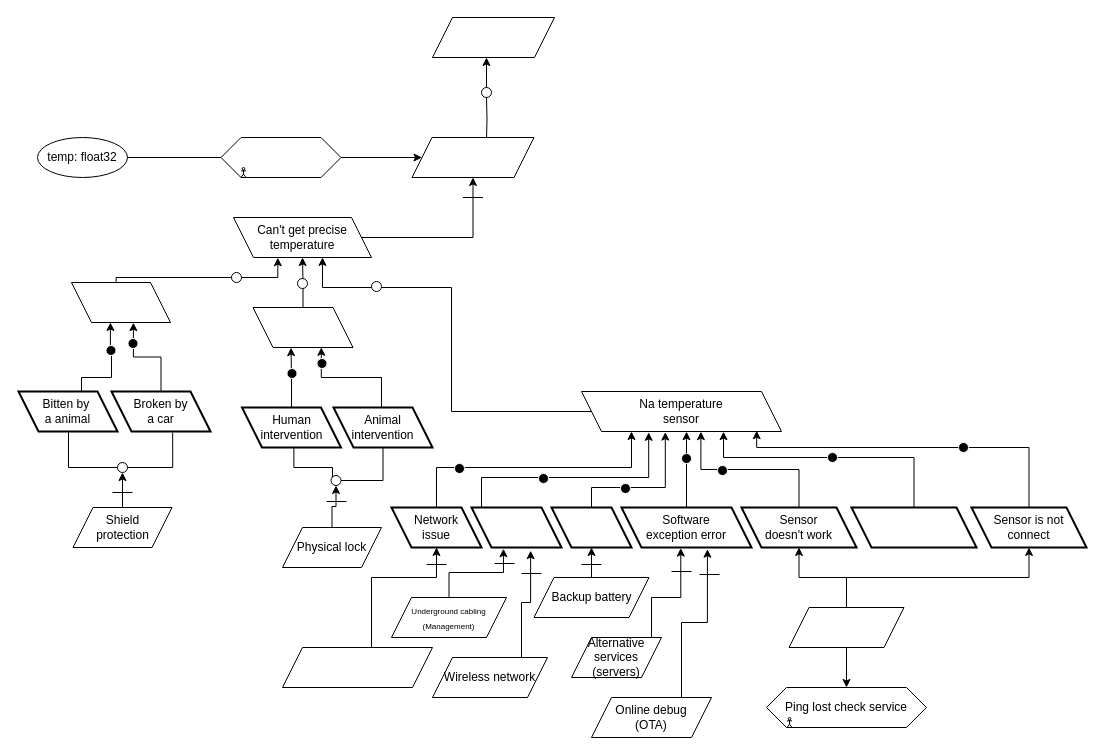
Image size: 1104x755. Some labels were removed from this diagram. The centre of each missing label's shape, as x and y in pixels:
"Alarm to admin" goes at point (846, 627).
"Battery drain" goes at point (591, 527).
"Board (HW) issue" goes at point (913, 527).
"BTS bidirectional data transmission" goes at point (357, 667).
"Cable issue" goes at point (516, 527).
"Get temperature" goes at point (472, 157).
"Sensor was broken" goes at point (120, 302).
"Sensor was Stolen" goes at point (302, 327).
"Soil monitoring" goes at point (493, 37).
"temperature sensor" goes at point (280, 157).
